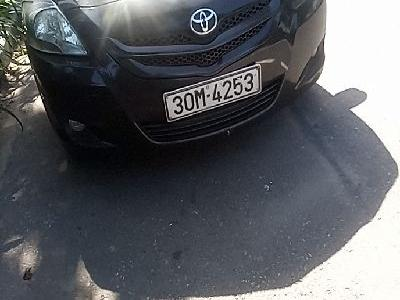lisence: (162, 65, 264, 123)
